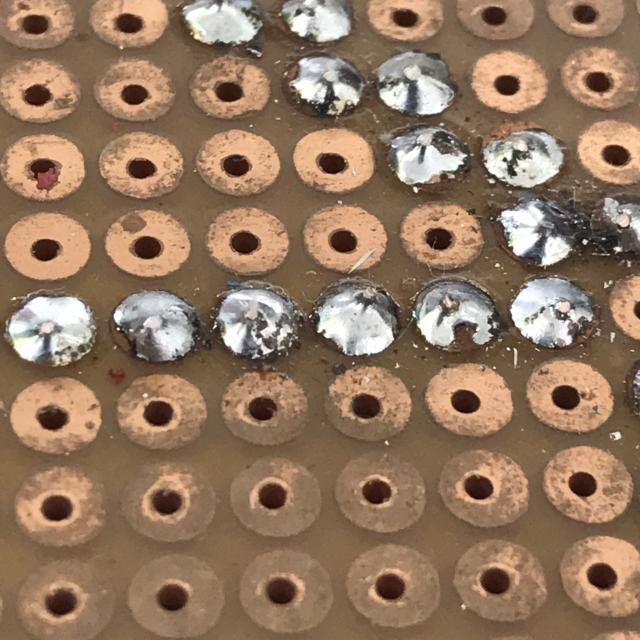good: (303, 271, 408, 365), (366, 46, 469, 122)
pad_less: (101, 279, 213, 377), (402, 267, 510, 361), (475, 110, 578, 195), (276, 40, 374, 128)
